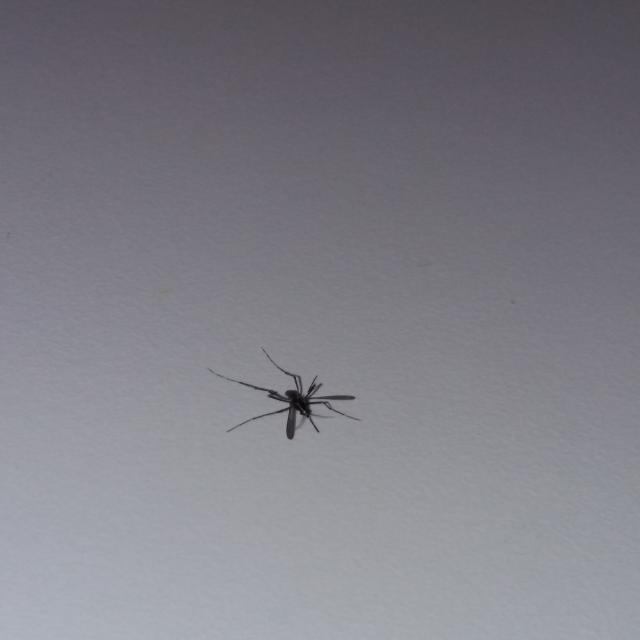albopictus: (206, 341, 362, 440)
